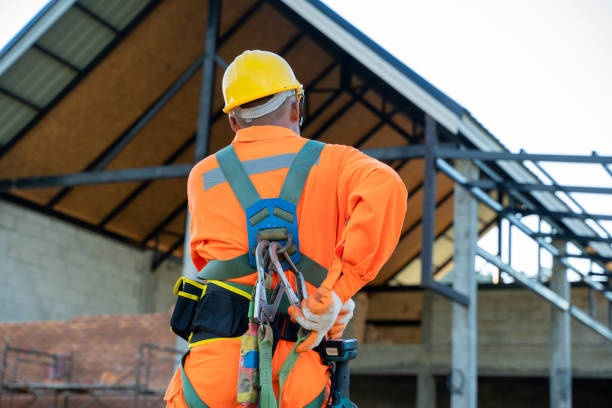Helmet: (218, 50, 298, 115)
Person: (164, 43, 348, 408)
Safety_Harness: (177, 136, 333, 408)
